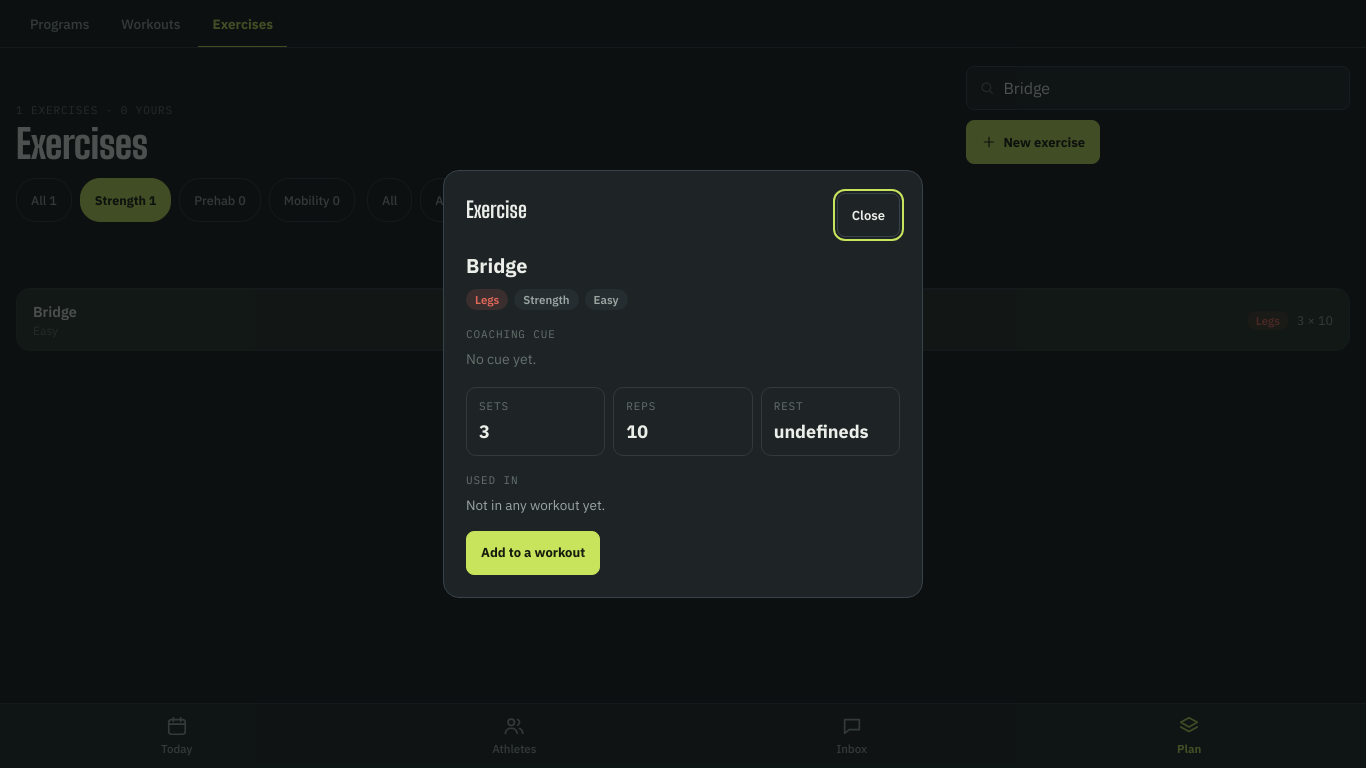
it: explains the empty mobility section and clears all filters in one action
Step 1. Click the button "Close" → coordinates (868, 215), box [837,193,900,237]
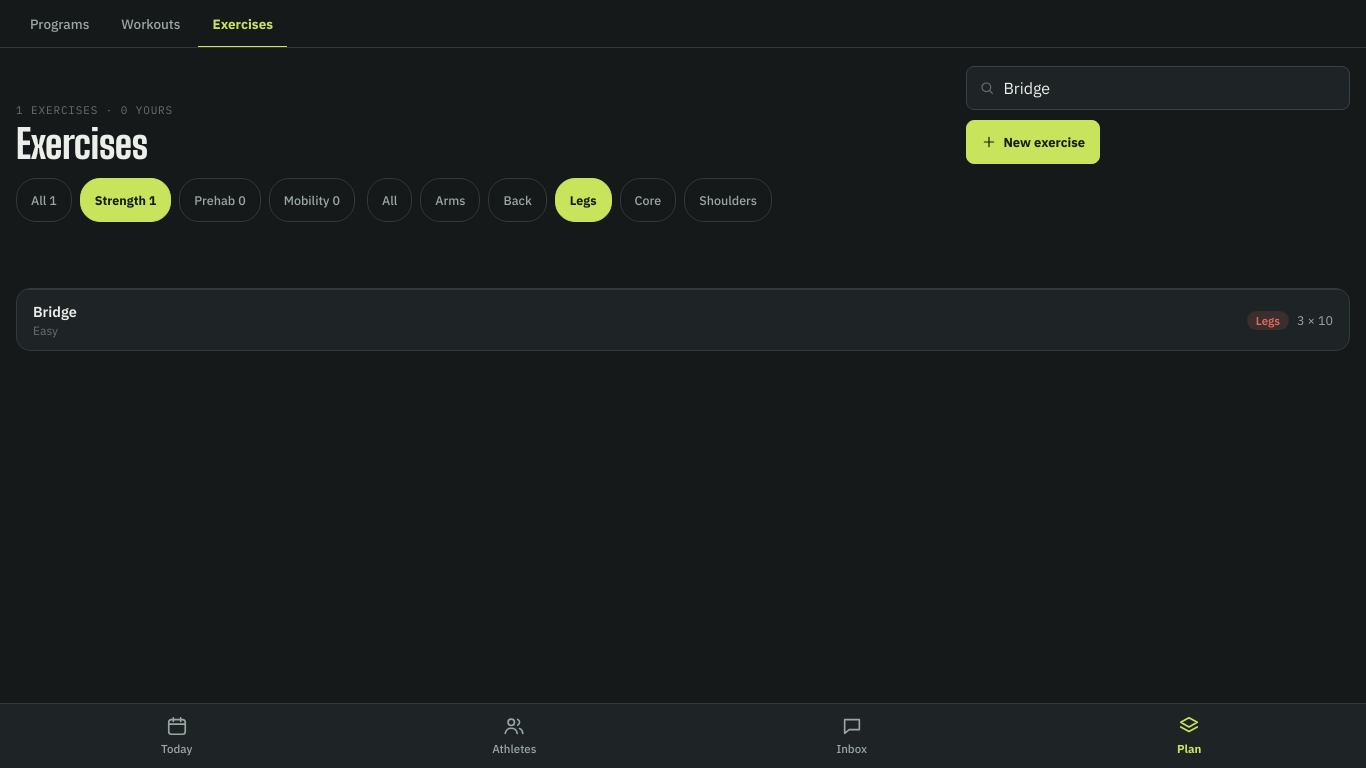
Step 2. Click the button "Mobility 0" → coordinates (312, 200), box [269,178,355,222]
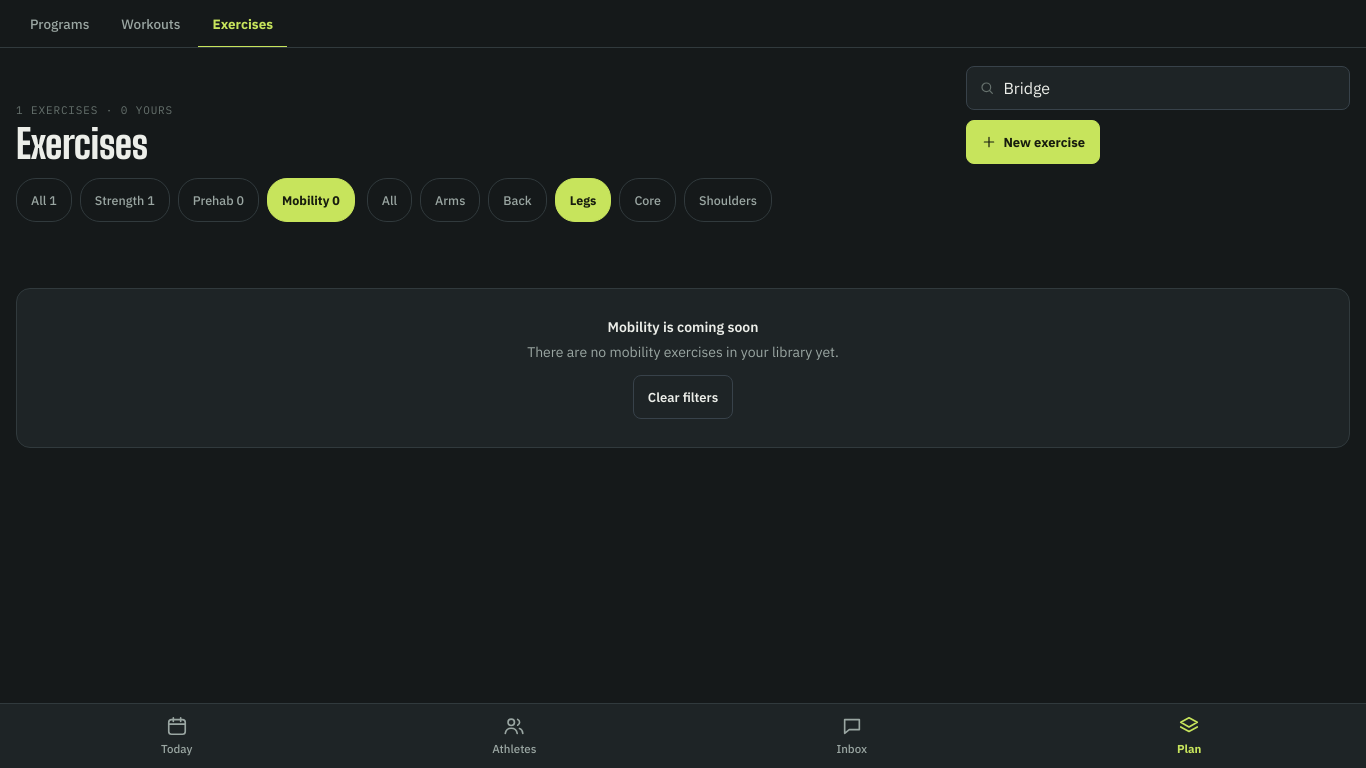
Expected: the button "Clear filters" is shown
Expected: the text "Mobility is coming soon" is shown, [608,318,758,336]
Step 3. Click the button "Clear filters" → coordinates (683, 397), box [633,375,733,419]
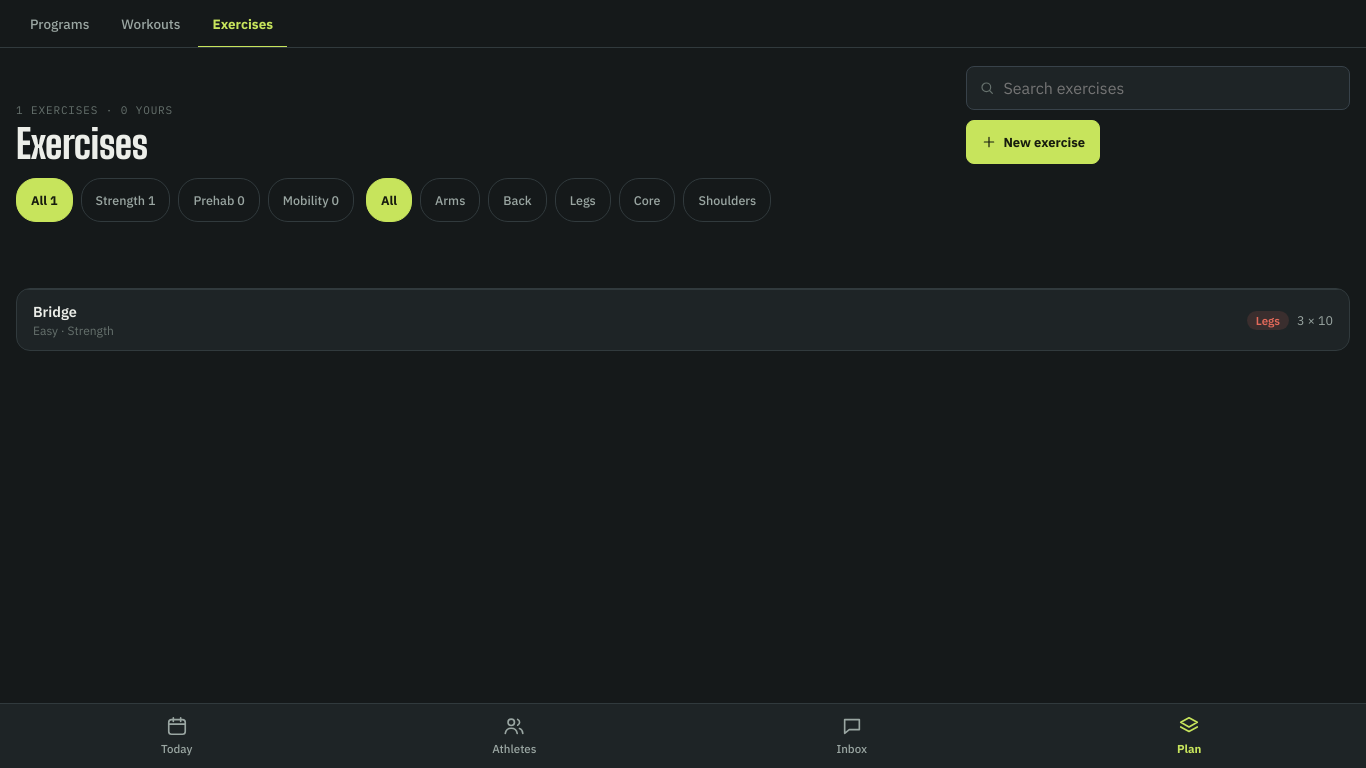
Expected: the field with placeholder "Search exercises" is empty, [1003,78,1337,98]
